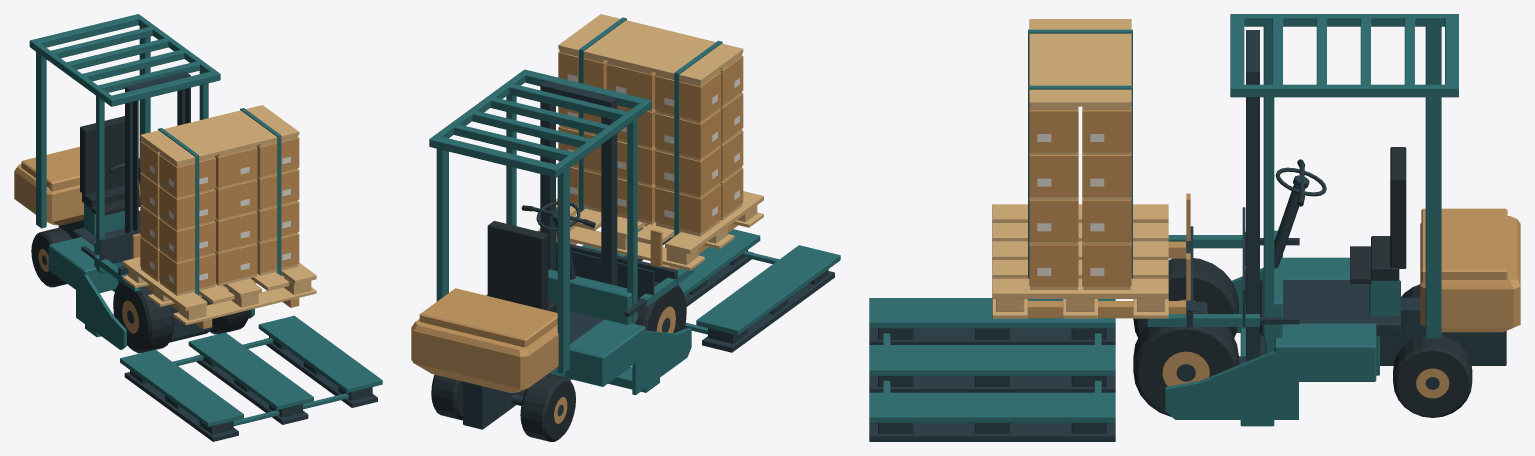
Rendered from forklift-pallet-travel-fixture.glb.
3 views of the same model, side by side, from view 1: azimuth 30°, elevation 25°; view 2: azimuth 150°, elevation 25°; view 3: azimuth 270°, elevation 25° (orthographic). The views are drawn at different scales.
Visible parts, largest first — view 1: forklift-pallet-travel-fixture__batch_28, forklift-pallet-travel-fixture__batch_01, forklift-pallet-travel-fixture__batch_25, forklift-pallet-travel-fixture__batch_27, forklift-pallet-travel-fixture__batch_24, forklift-pallet-travel-fixture__batch_00, forklift-pallet-travel-fixture__batch_02, forklift-pallet-travel-fixture__batch_23, forklift-pallet-travel-fixture__batch_19, forklift-pallet-travel-fixture__batch_26, forklift-pallet-travel-fixture__batch_11, forklift-pallet-travel-fixture__batch_03 (+3 smaller); view 2: forklift-pallet-travel-fixture__batch_01, forklift-pallet-travel-fixture__batch_28, forklift-pallet-travel-fixture__batch_27, forklift-pallet-travel-fixture__batch_02, forklift-pallet-travel-fixture__batch_00, forklift-pallet-travel-fixture__batch_25, forklift-pallet-travel-fixture__batch_23, forklift-pallet-travel-fixture__batch_11, forklift-pallet-travel-fixture__batch_24, forklift-pallet-travel-fixture__batch_26, forklift-pallet-travel-fixture__batch_03, forklift-pallet-travel-fixture__batch_19 (+5 smaller); view 3: forklift-pallet-travel-fixture__batch_01, forklift-pallet-travel-fixture__batch_25, forklift-pallet-travel-fixture__batch_27, forklift-pallet-travel-fixture__batch_28, forklift-pallet-travel-fixture__batch_00, forklift-pallet-travel-fixture__batch_24, forklift-pallet-travel-fixture__batch_02, forklift-pallet-travel-fixture__batch_22, forklift-pallet-travel-fixture__batch_14, forklift-pallet-travel-fixture__batch_23, forklift-pallet-travel-fixture__batch_19, forklift-pallet-travel-fixture__batch_08 (+6 smaller).
Boxes of the visible parts, x1=… form: forklift-pallet-travel-fixture__batch_28: x1=140, y1=137, x2=299, y2=293; forklift-pallet-travel-fixture__batch_01: x1=29, y1=14, x2=254, y2=349; forklift-pallet-travel-fixture__batch_25: x1=120, y1=315, x2=382, y2=426; forklift-pallet-travel-fixture__batch_27: x1=122, y1=105, x2=316, y2=325; forklift-pallet-travel-fixture__batch_24: x1=124, y1=336, x2=377, y2=441; forklift-pallet-travel-fixture__batch_00: x1=58, y1=72, x2=212, y2=342; forklift-pallet-travel-fixture__batch_02: x1=14, y1=146, x2=140, y2=225; forklift-pallet-travel-fixture__batch_23: x1=80, y1=116, x2=140, y2=215; forklift-pallet-travel-fixture__batch_19: x1=113, y1=282, x2=173, y2=353; forklift-pallet-travel-fixture__batch_26: x1=158, y1=108, x2=281, y2=295; forklift-pallet-travel-fixture__batch_11: x1=31, y1=228, x2=71, y2=287; forklift-pallet-travel-fixture__batch_03: x1=99, y1=230, x2=140, y2=263; forklift-pallet-travel-fixture__batch_01: x1=429, y1=69, x2=691, y2=395; forklift-pallet-travel-fixture__batch_28: x1=558, y1=52, x2=743, y2=233; forklift-pallet-travel-fixture__batch_27: x1=537, y1=14, x2=763, y2=270; forklift-pallet-travel-fixture__batch_02: x1=411, y1=288, x2=558, y2=392; forklift-pallet-travel-fixture__batch_00: x1=463, y1=81, x2=617, y2=429; forklift-pallet-travel-fixture__batch_25: x1=581, y1=229, x2=840, y2=335; forklift-pallet-travel-fixture__batch_23: x1=487, y1=221, x2=557, y2=312; forklift-pallet-travel-fixture__batch_11: x1=520, y1=373, x2=575, y2=441; forklift-pallet-travel-fixture__batch_24: x1=637, y1=239, x2=834, y2=352; forklift-pallet-travel-fixture__batch_26: x1=579, y1=17, x2=722, y2=236; forklift-pallet-travel-fixture__batch_03: x1=556, y1=247, x2=654, y2=298; forklift-pallet-travel-fixture__batch_19: x1=634, y1=281, x2=686, y2=333; forklift-pallet-travel-fixture__batch_01: x1=1165, y1=14, x2=1458, y2=426; forklift-pallet-travel-fixture__batch_25: x1=869, y1=298, x2=1115, y2=422; forklift-pallet-travel-fixture__batch_27: x1=992, y1=19, x2=1168, y2=318; forklift-pallet-travel-fixture__batch_28: x1=1029, y1=106, x2=1131, y2=286; forklift-pallet-travel-fixture__batch_00: x1=1193, y1=30, x2=1506, y2=365; forklift-pallet-travel-fixture__batch_24: x1=869, y1=328, x2=1115, y2=441; forklift-pallet-travel-fixture__batch_02: x1=1420, y1=208, x2=1520, y2=332; forklift-pallet-travel-fixture__batch_22: x1=1133, y1=310, x2=1238, y2=416; forklift-pallet-travel-fixture__batch_14: x1=1393, y1=335, x2=1472, y2=417; forklift-pallet-travel-fixture__batch_23: x1=1350, y1=147, x2=1406, y2=283; forklift-pallet-travel-fixture__batch_19: x1=1133, y1=258, x2=1238, y2=337; forklift-pallet-travel-fixture__batch_08: x1=1147, y1=235, x2=1259, y2=326.
Size of the model in its own units: 1.6 by 2.1 by 3.7.
